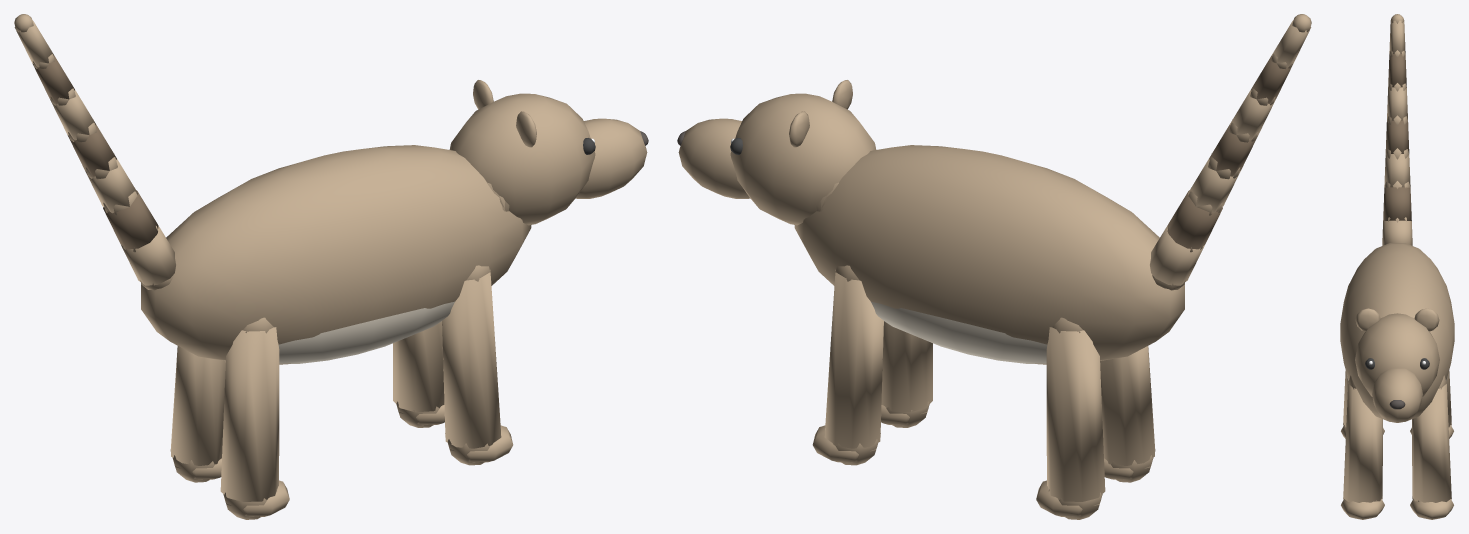
Rendered from south-american-coati.glb.
The picture shows the model from 3 angles, left to right: view 1: azimuth 30°, elevation 25°; view 2: azimuth 150°, elevation 25°; view 3: azimuth 270°, elevation 25°; orthographic projection. The views are drawn at different scales.
Visible parts, largest first — view 1: e, e.016, e.025; view 2: e, e.016, e.025; view 3: e, e.016, e.025.
Part boxes in pixels (x1,y1,x2,y2): e: [141, 145, 531, 519]; e.016: [449, 80, 648, 225]; e.025: [14, 14, 175, 290]; e: [794, 145, 1184, 519]; e.016: [677, 80, 876, 225]; e.025: [1150, 14, 1311, 290]; e: [1340, 243, 1454, 519]; e.016: [1355, 308, 1439, 422]; e.025: [1382, 14, 1412, 245].
Bounding box in the file's own units: 1.11 × 0.8987 × 0.2574.
